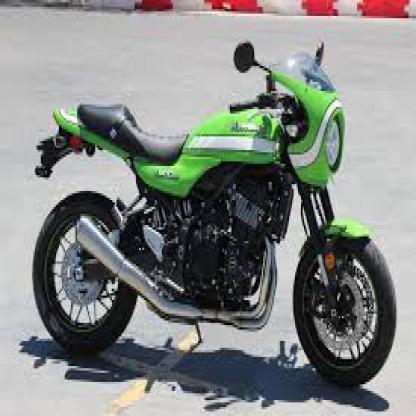Motorcycle: (30, 28, 397, 386)
